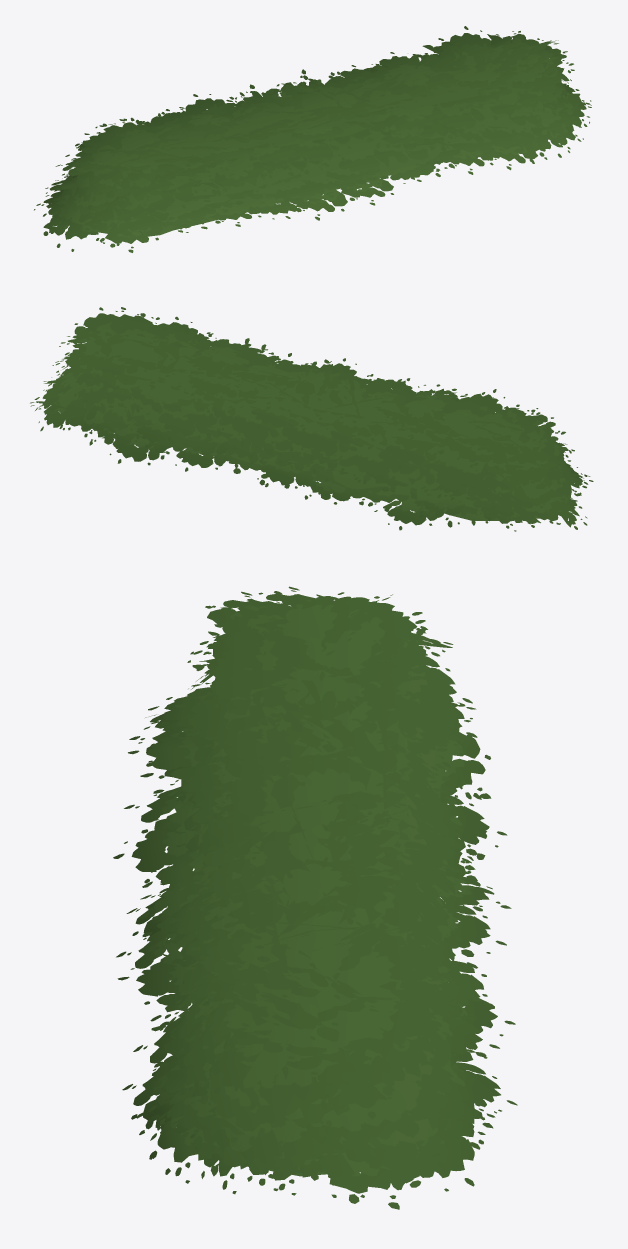
File: SM_Env_Hedge_03.fbx
The picture shows the model from 3 angles, top to bottom: view 1: azimuth 30°, elevation 25°; view 2: azimuth 150°, elevation 25°; view 3: azimuth 270°, elevation 25°; orthographic projection. The views are drawn at different scales.
Visible parts, largest first — view 1: SM_Env_Hedge_03_LOD0; view 2: SM_Env_Hedge_03_LOD0; view 3: SM_Env_Hedge_03_LOD0.
Boxes of the visible parts, left/top/right/bottom form: SM_Env_Hedge_03_LOD0: left=34, top=26, right=591, bottom=252; SM_Env_Hedge_03_LOD0: left=30, top=307, right=593, bottom=531; SM_Env_Hedge_03_LOD0: left=113, top=586, right=517, bottom=1209.
Size of what is drawn, in the model's own units: 1492 by 321 by 534.
